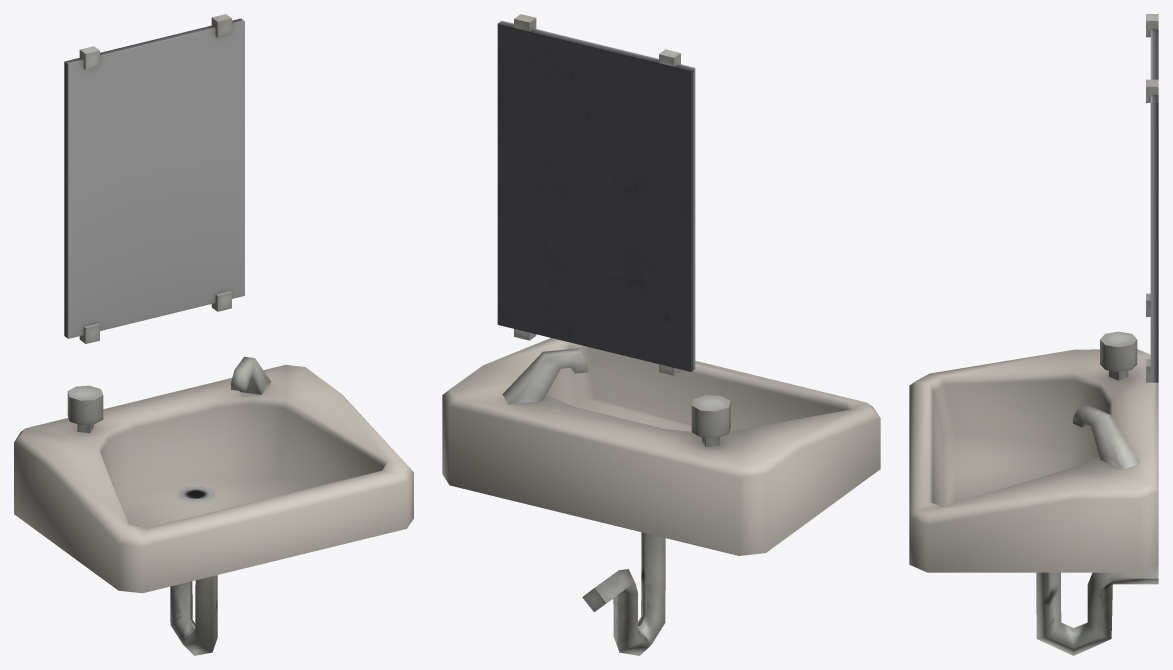
File: sb_obj_ModernCity077_wash_basin_c.fbx
3 renders of one model, left to right at view 1: azimuth 30°, elevation 25°; view 2: azimuth 150°, elevation 25°; view 3: azimuth 270°, elevation 25°, orthographic. The views are drawn at different scales.
Visible parts, largest first — view 1: sb_obj_ModernCity077_wash_basin_c; view 2: sb_obj_ModernCity077_wash_basin_c; view 3: sb_obj_ModernCity077_wash_basin_c.
Boxes of the visible parts, bbox=[...] form: sb_obj_ModernCity077_wash_basin_c: bbox=[14, 14, 413, 655]; sb_obj_ModernCity077_wash_basin_c: bbox=[442, 14, 880, 655]; sb_obj_ModernCity077_wash_basin_c: bbox=[909, 14, 1158, 655].
Bounding box in the file's own units: 0.6388 × 1.23 × 0.4577.
1 material, 1 textured.
